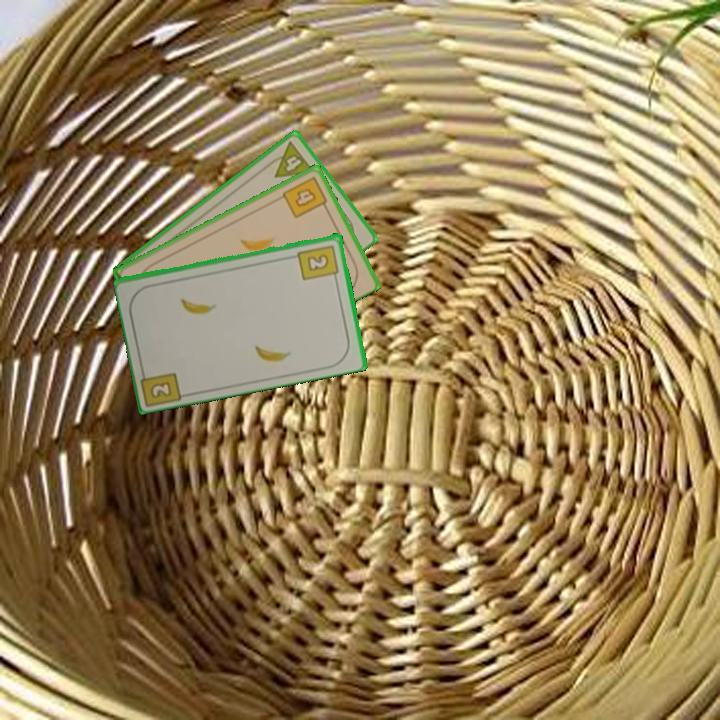2b: (137, 363, 186, 407), (295, 241, 341, 283)
4b: (279, 173, 331, 221)
4p: (263, 138, 317, 181)
